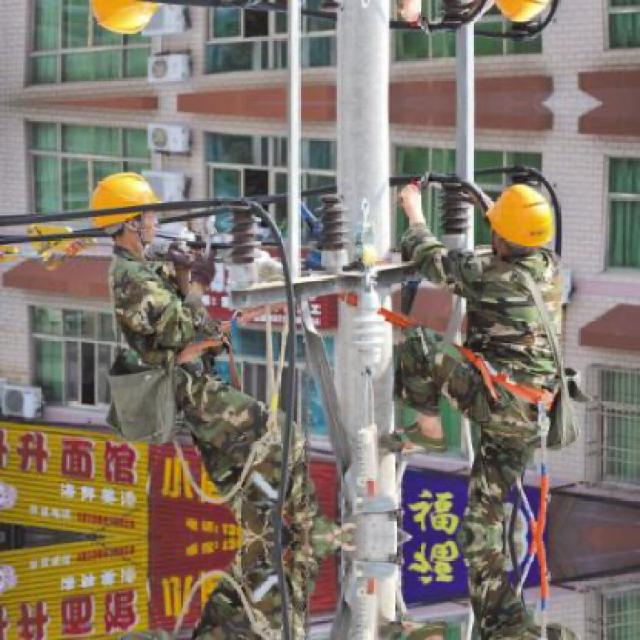helmet: (83, 163, 168, 254), (485, 177, 560, 255), (81, 0, 168, 42), (483, 0, 560, 28)
